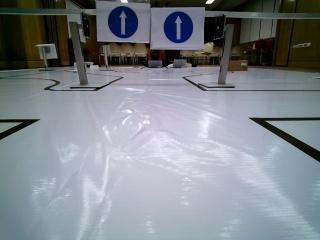straight: (96, 0, 148, 43), (153, 6, 204, 48)
